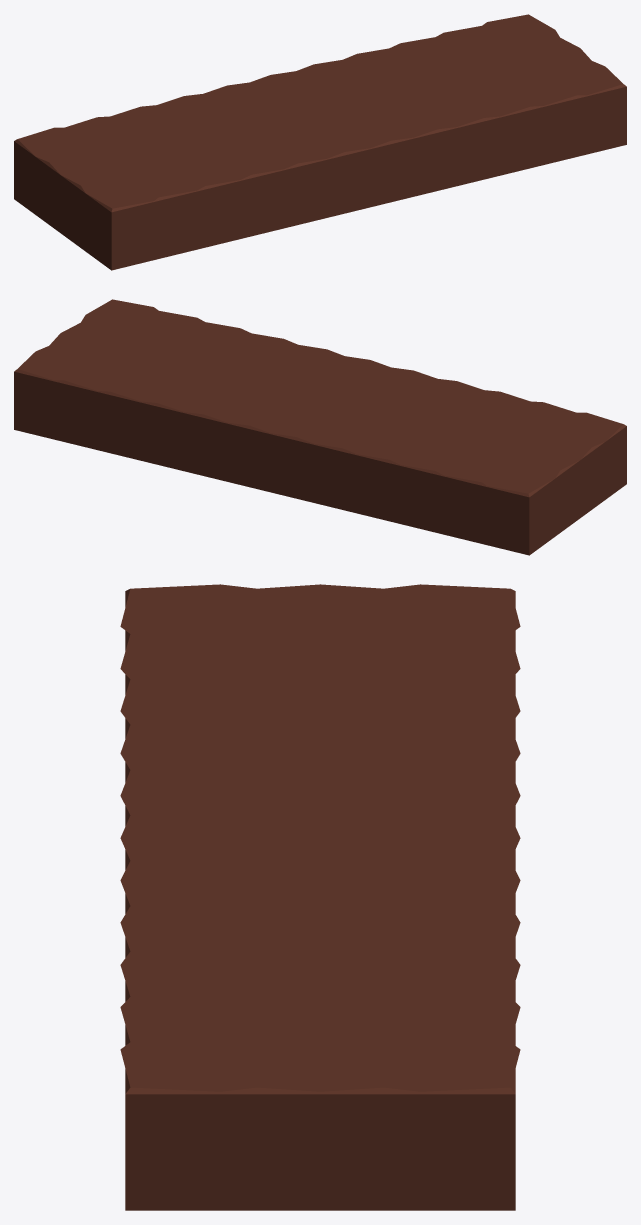
File: mahsulot.glb
3 views of the same model, one above another, from view 1: azimuth 30°, elevation 25°; view 2: azimuth 150°, elevation 25°; view 3: azimuth 270°, elevation 25° (orthographic). The views are drawn at different scales.
Visible parts, largest first — view 1: mahsulot_A; view 2: mahsulot_A; view 3: mahsulot_A.
Part boxes in pixels (x1,y1,x2,y2): mahsulot_A: (14,14,626,270); mahsulot_A: (14,299,626,555); mahsulot_A: (120,584,520,1210).
Bounding box in the file's own units: 0.36 × 0.04 × 0.12.
